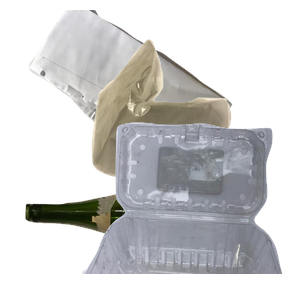glass: (23, 186, 249, 300)
paper: (27, 10, 252, 187)
plastic: (80, 120, 300, 300)
trash: (89, 37, 300, 213)
